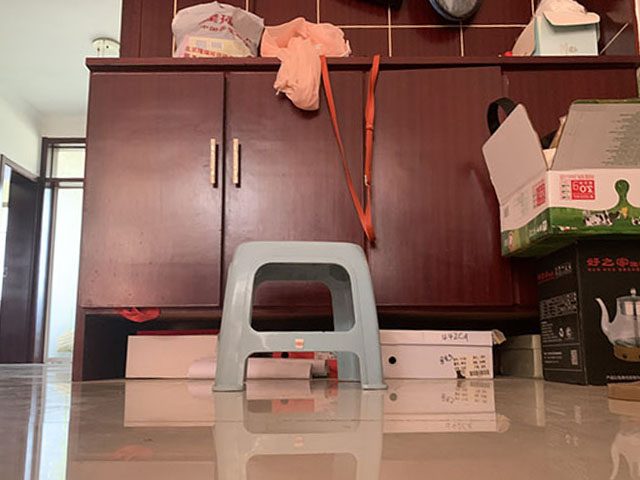cabinet: (81, 58, 512, 383)
stool: (211, 240, 388, 394)
